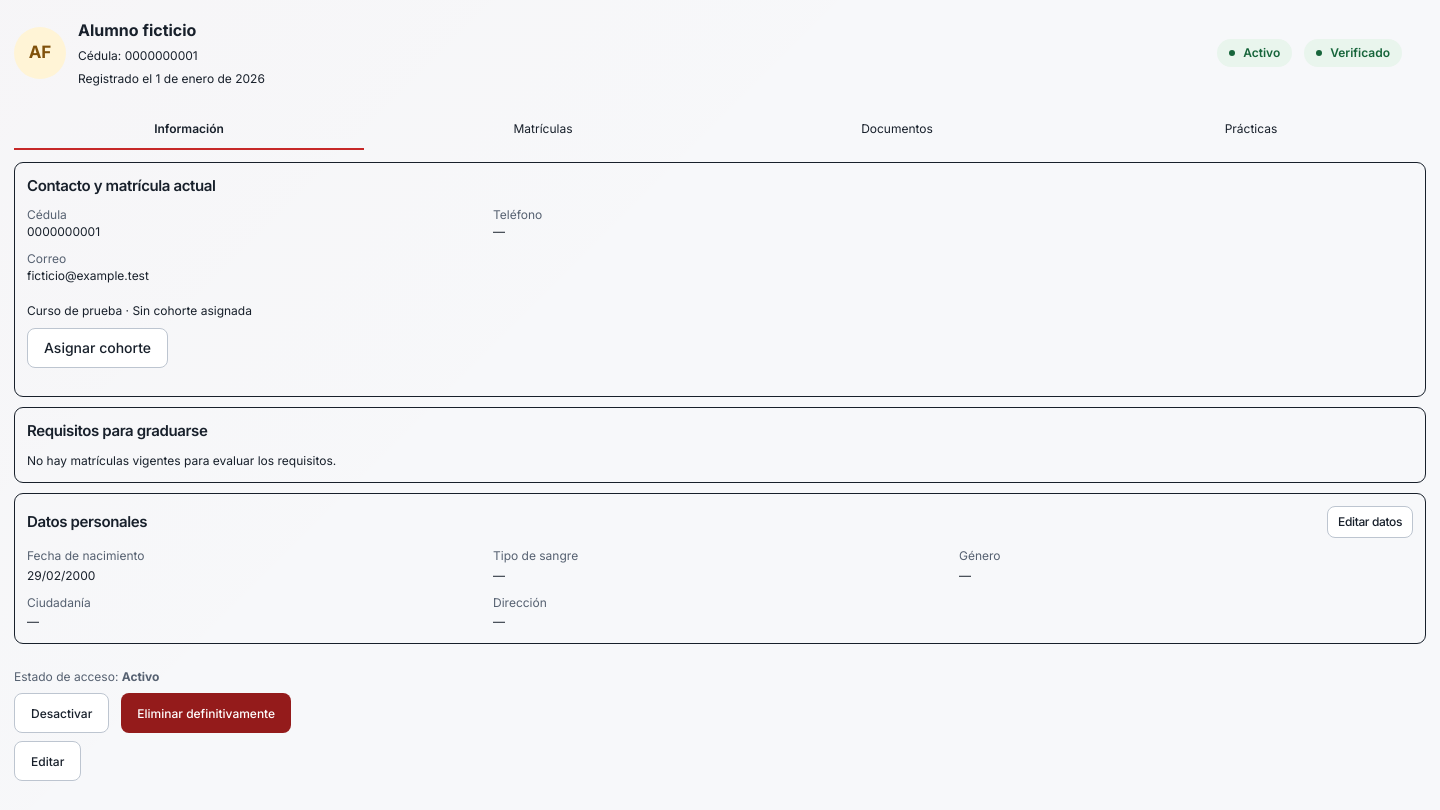
Scenario: ficha en el panel lateral › separa la ficha en pestañas sin perder secciones ni acciones
Expected: the heading "Contacto y matrícula actual" is shown, [27,176,216,195]
Expected: the heading "Requisitos para graduarse" is shown, [27,421,207,440]
Click the button "Matrículas" at [543, 130], box [368,110,718,150]
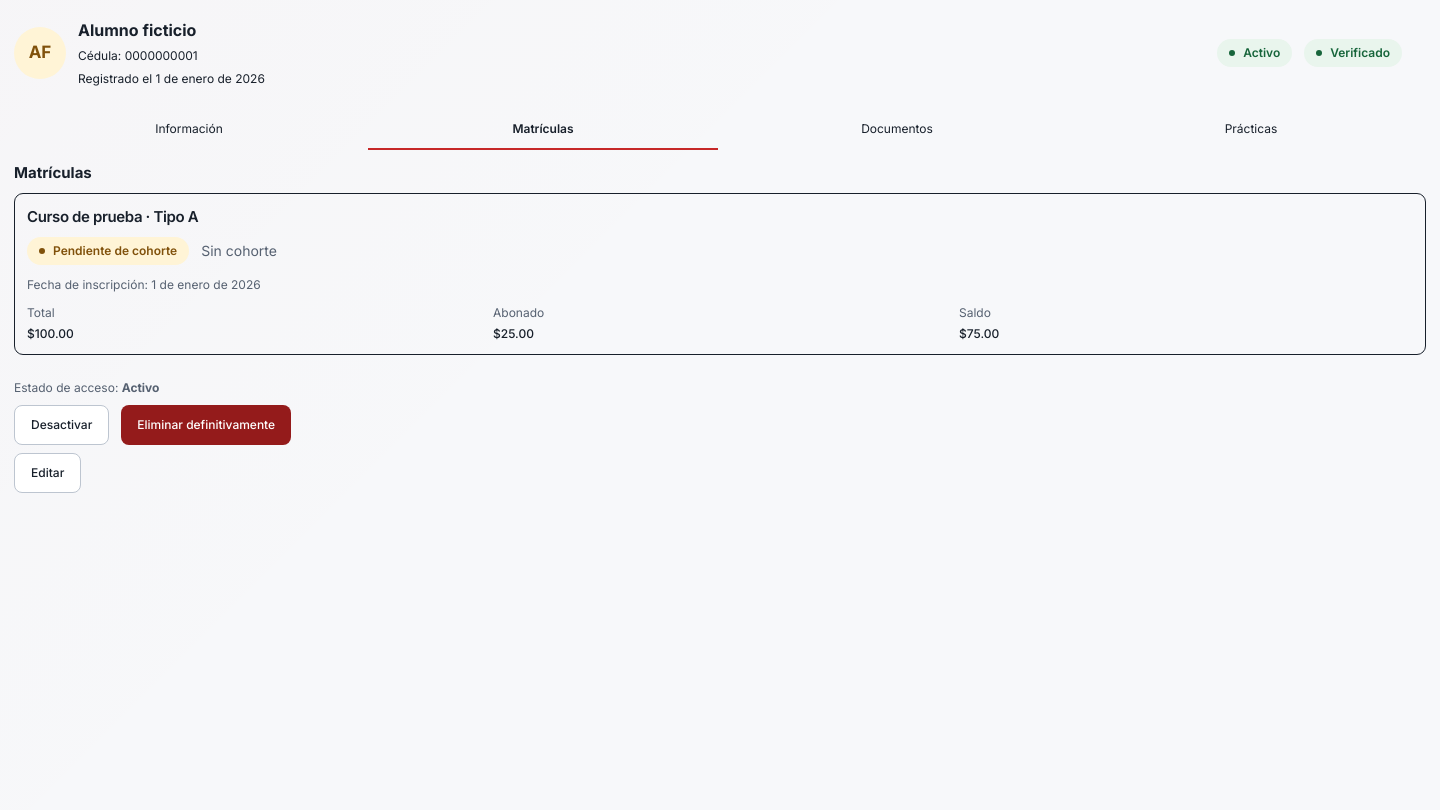
Now the text "Total" is shown, box [27,305,55,320]
Now the heading "Contacto y matrícula actual" is gone
Click the button "Documentos" at [897, 130], box [722,110,1072,150]
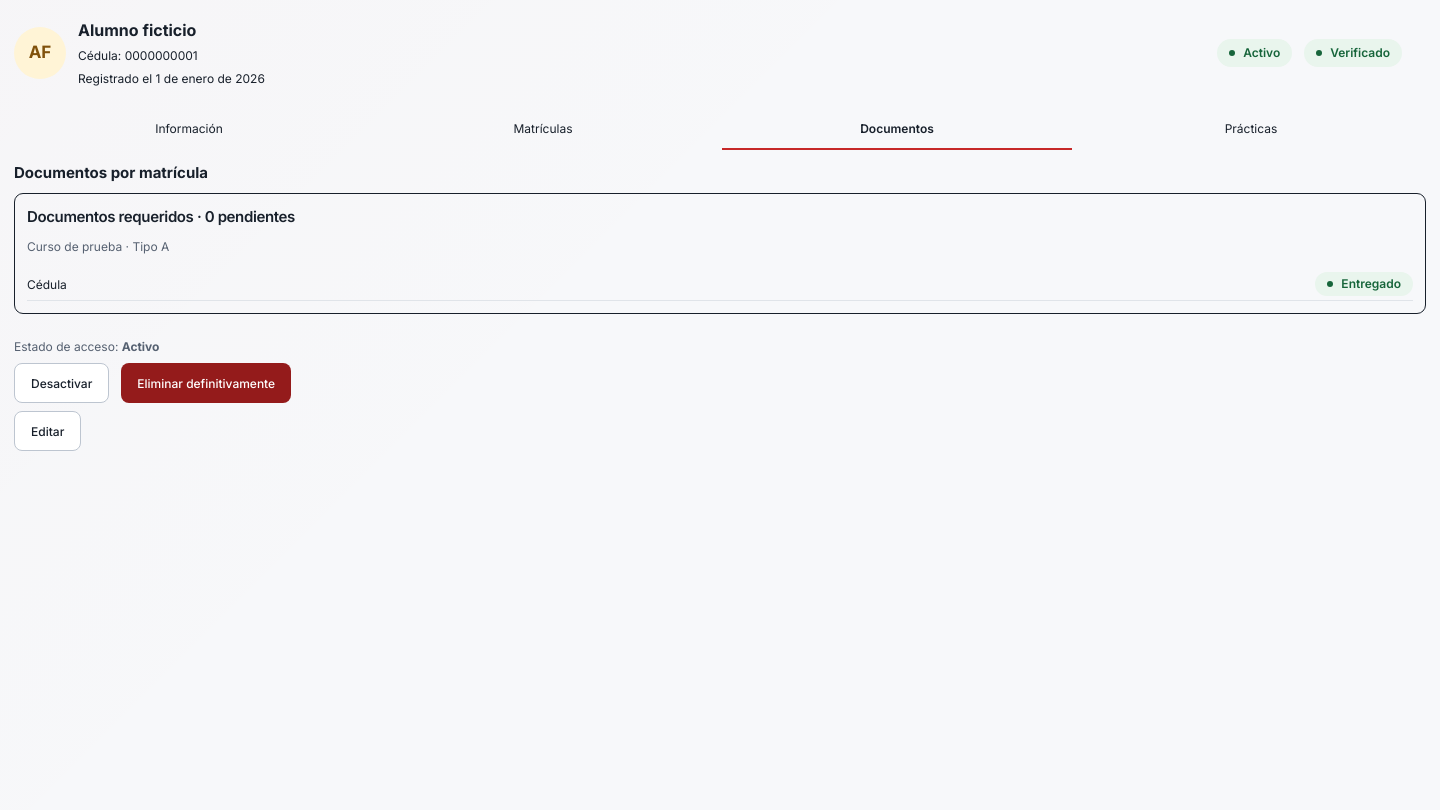
Now the text "Entregado" is shown, box [1315,272,1413,296]
Click the button "Prácticas" at [1251, 130], box [1076,110,1426,150]
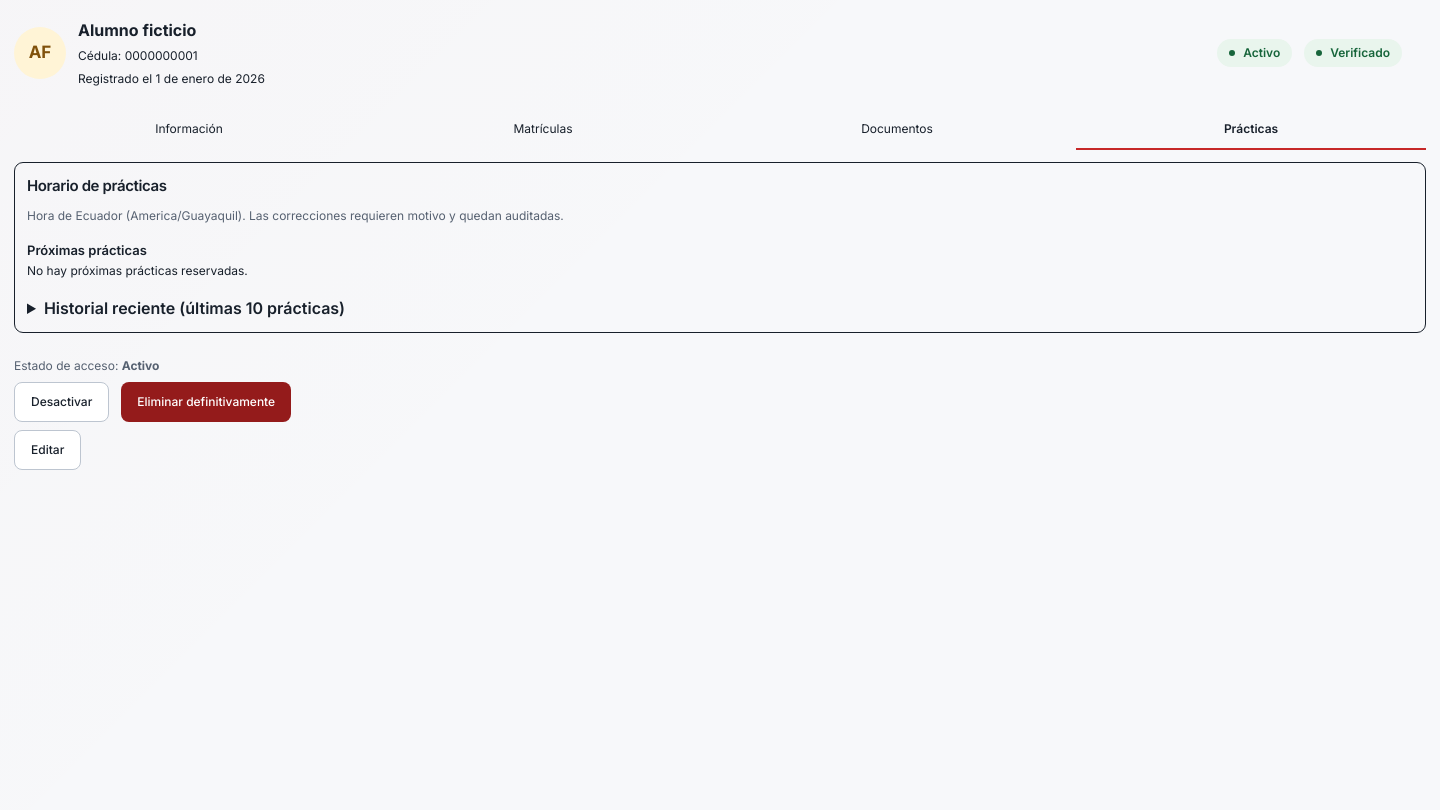
Expected: the button "Editar" is shown, [14,430,81,470]
Now the heading "Horario de prácticas" is shown, box [27,176,167,195]
